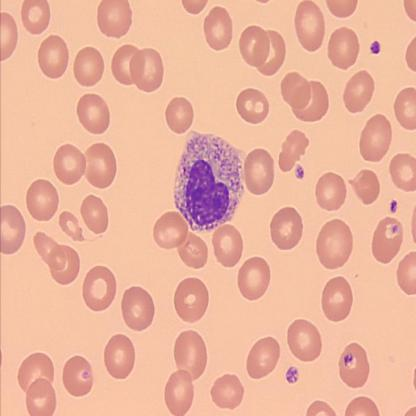Metamyelocyte: (172, 127, 248, 235)
